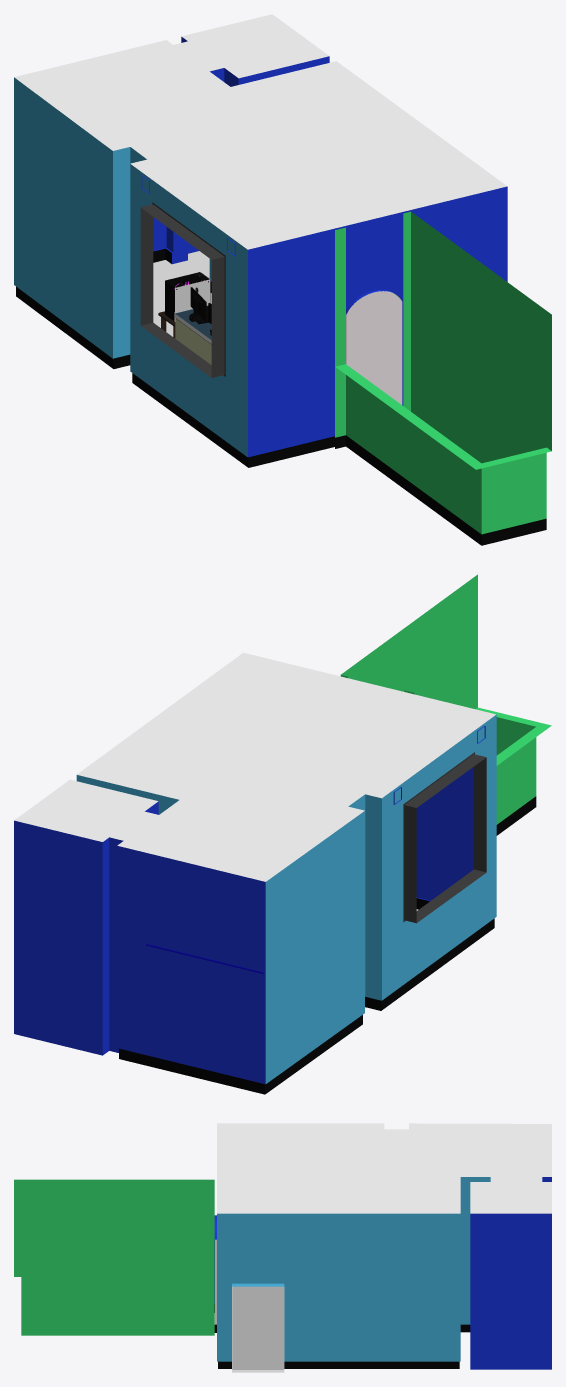
File: Room.fbx
3 views of the same model, one above another, from view 1: azimuth 30°, elevation 25°; view 2: azimuth 150°, elevation 25°; view 3: azimuth 270°, elevation 25° (orthographic). The views are drawn at different scales.
Visible parts, largest first — view 1: Cyan, Roof, Gate, Back Cover, Glass; view 2: Cyan, Roof; view 3: Cyan, Roof, Gate.001.
Part boxes in pixels (x1,y1,x2,y2): Cyan: [14, 36, 551, 545]; Roof: [14, 14, 507, 249]; Gate: [346, 291, 402, 404]; Back Cover: [175, 305, 211, 364]; Glass: [175, 279, 209, 321]; Cyan: [14, 574, 551, 1094]; Roof: [14, 652, 495, 881]; Cyan: [14, 1177, 551, 1372]; Roof: [217, 1123, 551, 1213]; Gate.001: [232, 1286, 283, 1369].
Bounding box in the file's own units: 389 × 291 × 905.
